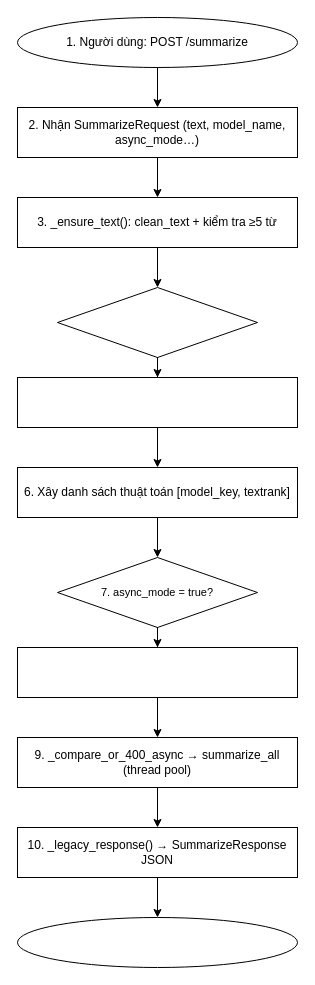
This 315x985 diagram has some shape labels left out. Each missing label, with the box of its shape:
11. Phản hồi HTTP 200: (16, 916, 298, 968)
4. Văn bản hợp lệ?: (56, 286, 258, 358)
5. resolve_algorithm(model_name) → model_key: (16, 376, 298, 428)
8. summarize_task.delay() → trả queued + job_id: (16, 646, 298, 698)
